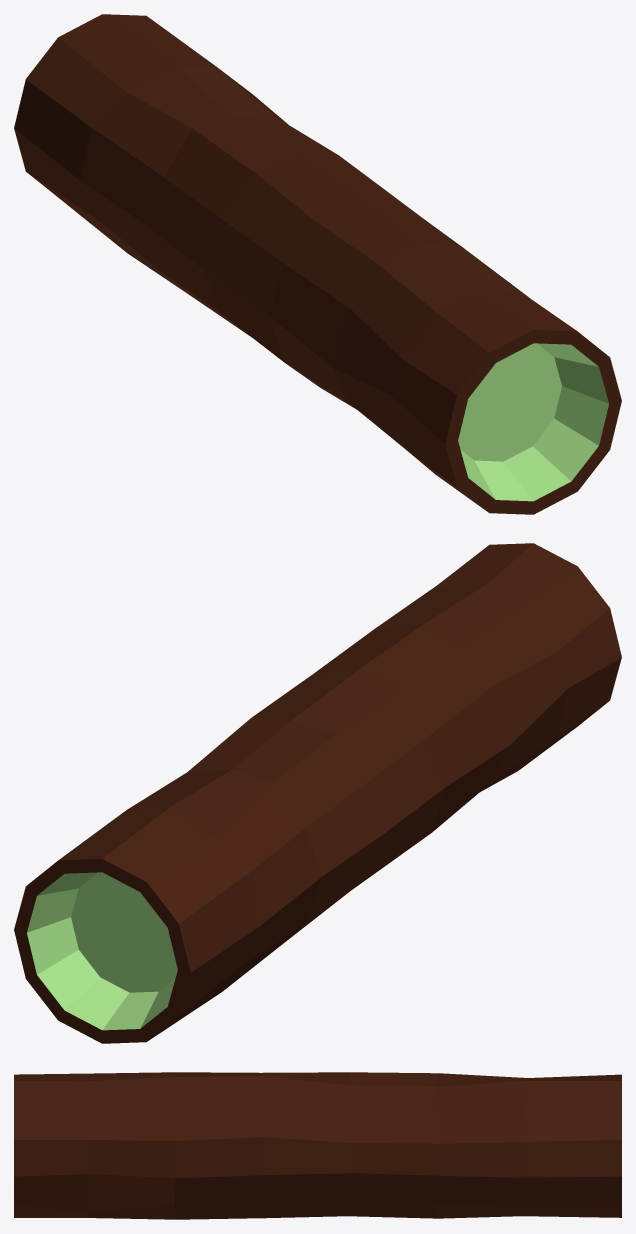
File: FallenLog01.fbx
3 views of the same model, one above another, from view 1: azimuth 30°, elevation 25°; view 2: azimuth 150°, elevation 25°; view 3: azimuth 270°, elevation 25° (orthographic). The views are drawn at different scales.
Parts seen in each view (by area): view 1: Cylinder; view 2: Cylinder; view 3: Cylinder.
Boxes of the visible parts, x1,y1,x2,y2 form: Cylinder: [14, 14, 621, 514]; Cylinder: [14, 543, 621, 1043]; Cylinder: [14, 1072, 621, 1219].
Size of the model in its own units: 104 by 423 by 105.
